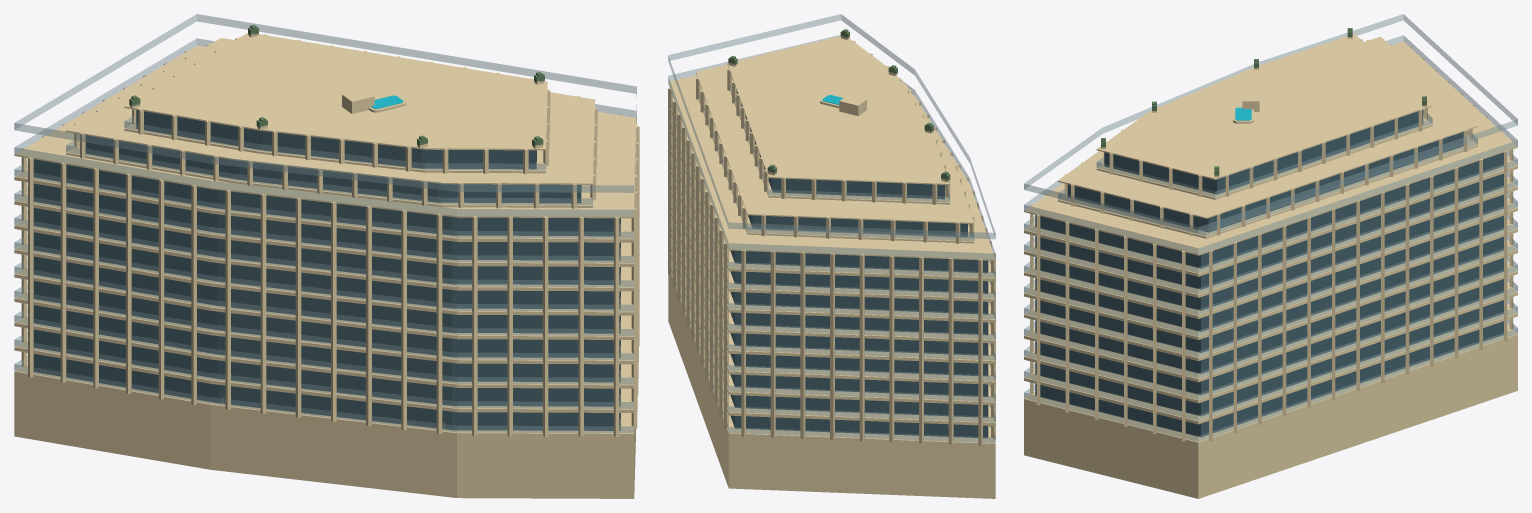
Rendered from tigne-18.glb.
3 renders of one model, left to right at view 1: azimuth 30°, elevation 25°; view 2: azimuth 150°, elevation 25°; view 3: azimuth 270°, elevation 25°, orthographic. The views are drawn at different scales.
Parts seen in each view (by area): view 1: T10 Wohnhaus; view 2: T10 Wohnhaus; view 3: T10 Wohnhaus.
Boxes of the visible parts, x1,y1,x2,y2 form: T10 Wohnhaus: (14,14,639,498); T10 Wohnhaus: (668,14,995,498); T10 Wohnhaus: (1024,14,1517,498).
Bounding box in the file's own units: 67.22 × 43.7 × 65.81.
